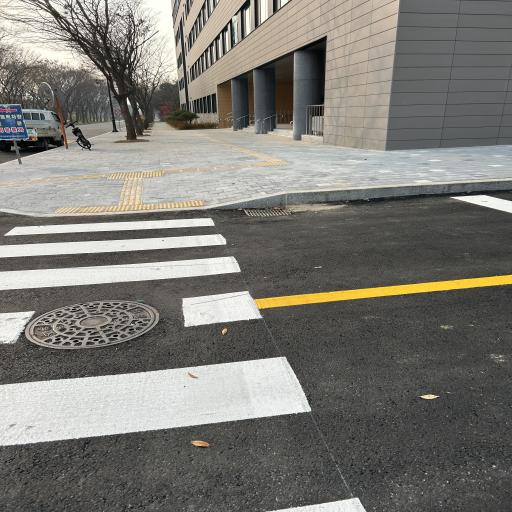drain: (244, 207, 290, 217)
